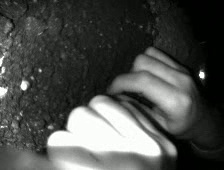corn: (18, 77, 32, 92)
